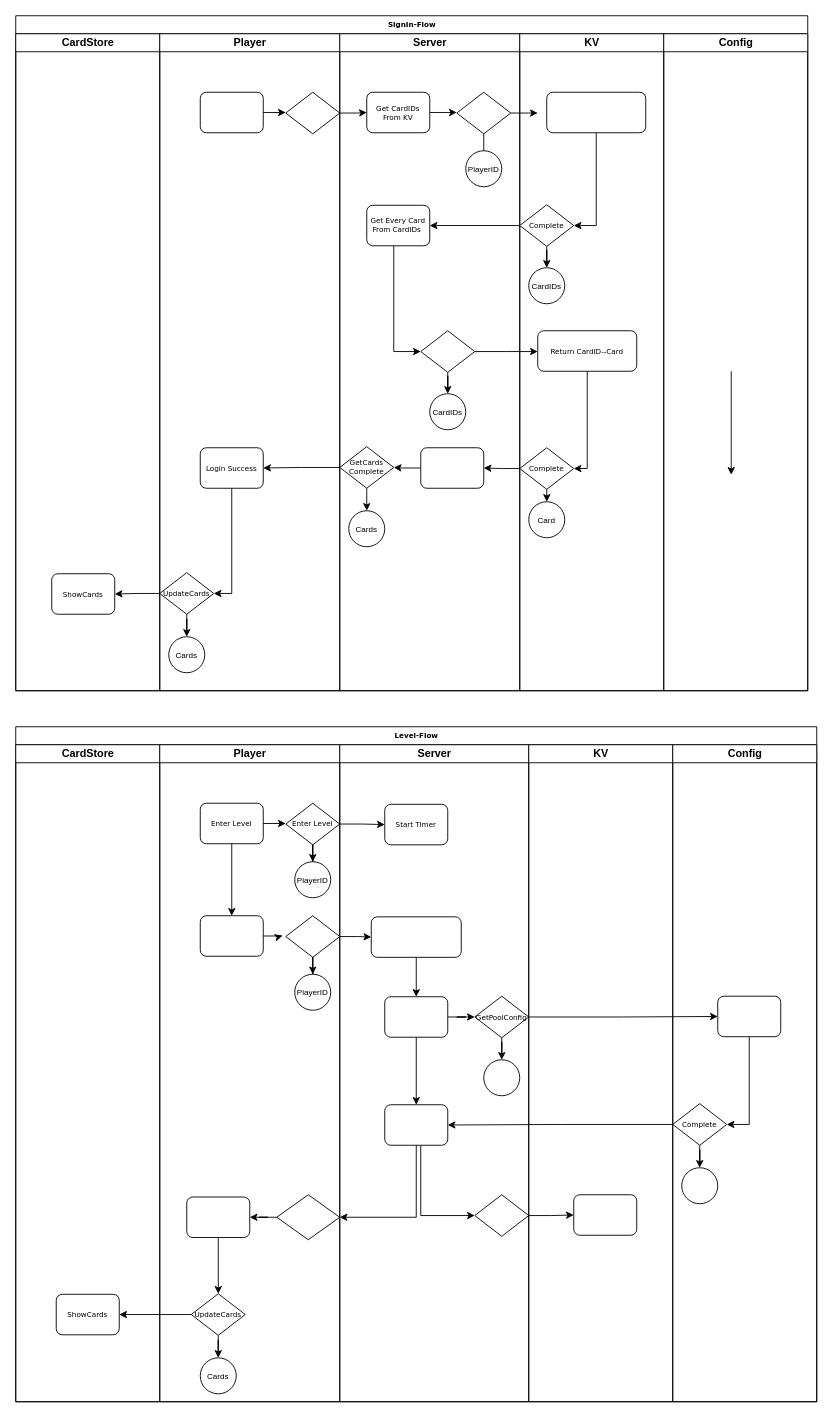
Image size: 833x1418. Some labels were removed from this diagram. The centre of each missing label's shape, as x and y in pixels:
"Config Table" goes at point 699,1185.
"End Level" goes at point 312,936.
"End Timer And Verify" goes at point 415,936.
"EndLevel" goes at point 231,935.
"FetchCardIDs" goes at point 483,112.
"GetCard" goes at point 447,351.
"GetCardDrop" goes at point 416,1124.
"GetCards" goes at point 312,112.
"Login" goes at point 231,112.
"PoolID" goes at point 501,1077.
"Return Config" goes at point 749,1016.
"Return Player--CardIDs" goes at point 596,112.
"Send Cards As An Array Back To Client" goes at point 452,467.
"Settle And Generate CardID" goes at point 416,1016.
"SettleComplete" goes at point 308,1217.
"ShowSettlement" goes at point 218,1217.
"Store In KV" goes at point 605,1214.
"StoreNewCard" goes at point 501,1215.
